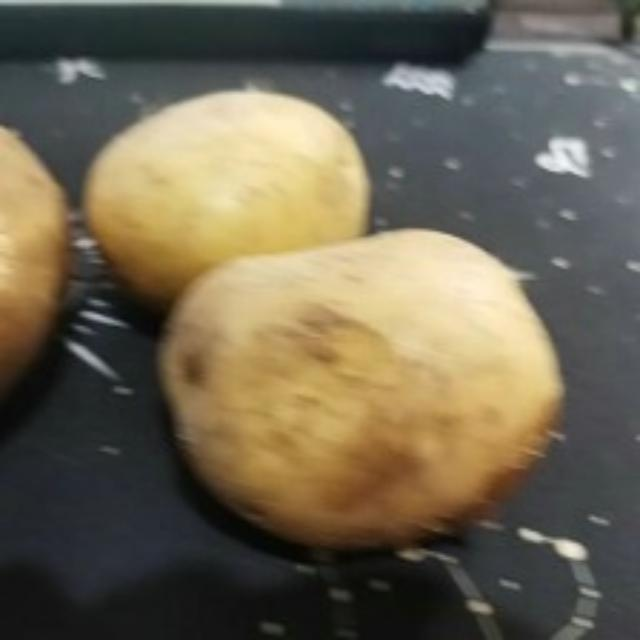Damaged potato: (152, 223, 574, 551), (0, 110, 81, 440)
Potato: (84, 88, 382, 306)
